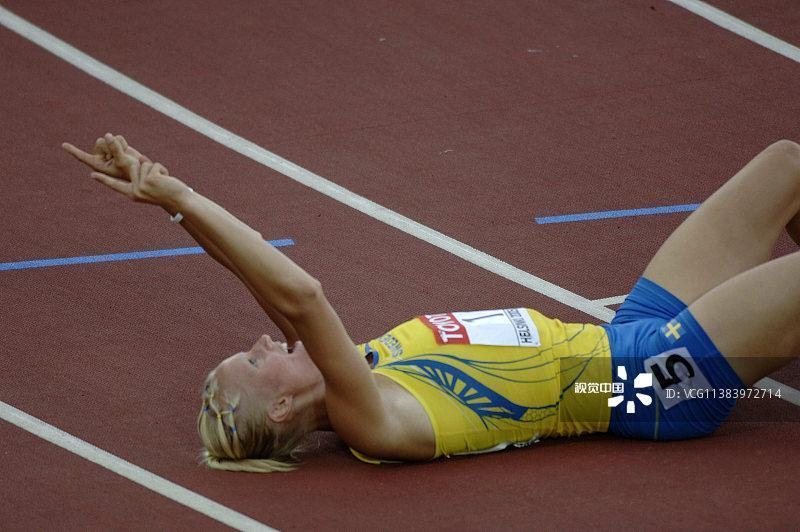Fall-Detected: (41, 96, 800, 481)
